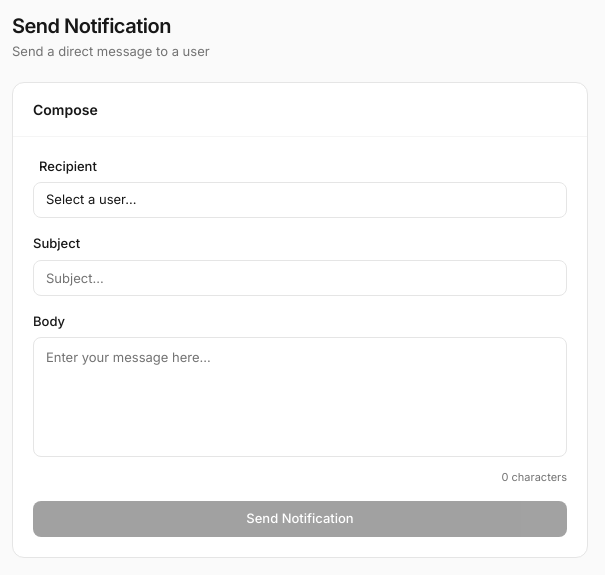
Test: NotificationsPage › shows character counter for body textarea
The image size is (605, 575).
Expected: the text "0 characters" is shown, top-left (502, 470), bottom-right (567, 484)
Type "Hello" into the text box with placeholder "Enter your message here...".
click(300, 397); type("Hello")  # box top-left (33, 337), bottom-right (567, 456)
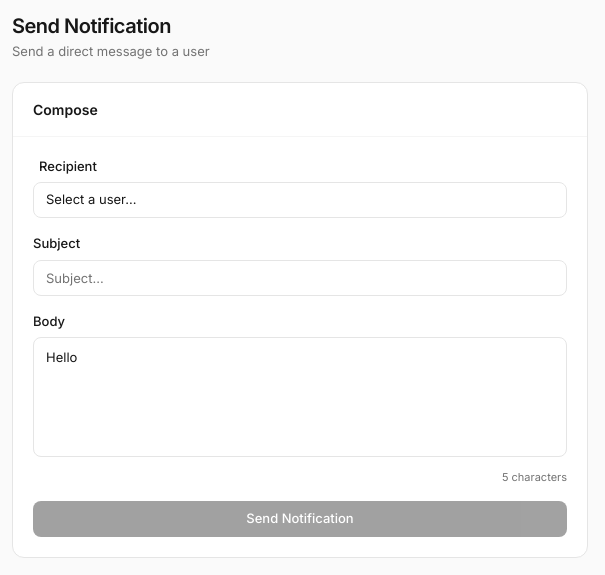
Now the text "5 characters" is shown, box top-left (502, 470), bottom-right (567, 484)
